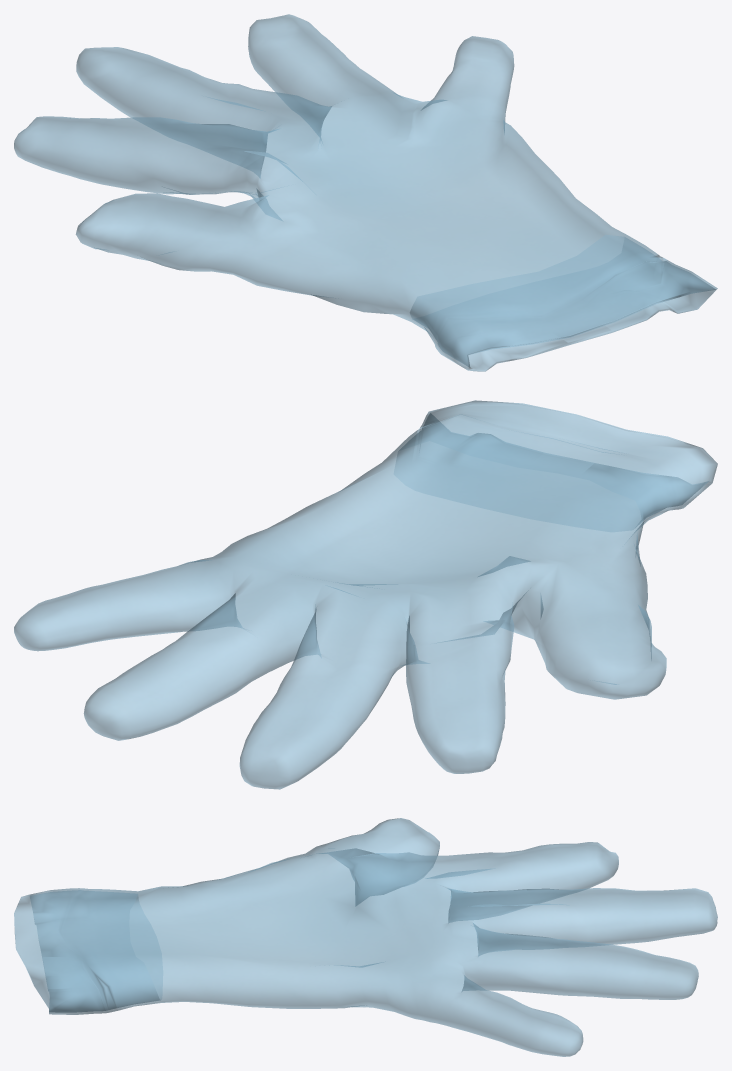
Rendered from FBX_SterilizedGlove.fbx.
3 renders of one model, top to bottom at view 1: azimuth 30°, elevation 25°; view 2: azimuth 150°, elevation 25°; view 3: azimuth 270°, elevation 25°, orthographic. The views are drawn at different scales.
Parts seen in each view (by area): view 1: SM_Glove; view 2: SM_Glove; view 3: SM_Glove.
Boxes of the visible parts, x1,y1,x2,y2 form: SM_Glove: (14,14,717,371); SM_Glove: (14,400,717,789); SM_Glove: (14,818,717,1056).
Size of the model in its own units: 0.1097 by 0.0158 by 0.151.
